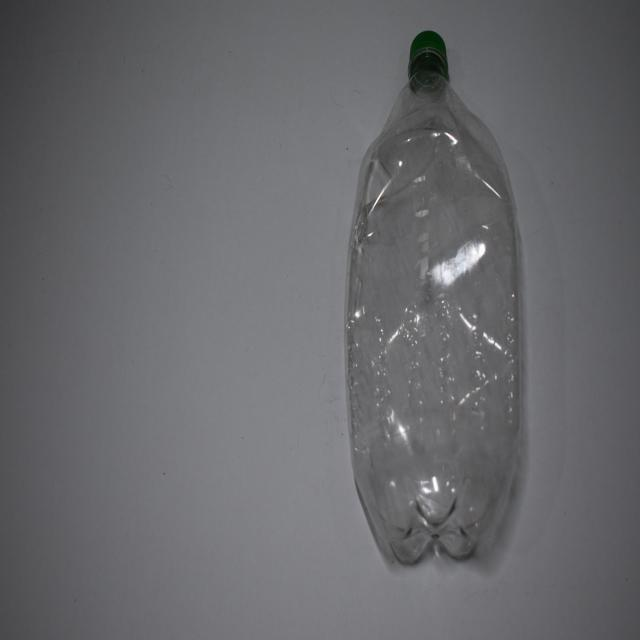bottle: (343, 33, 534, 578)
